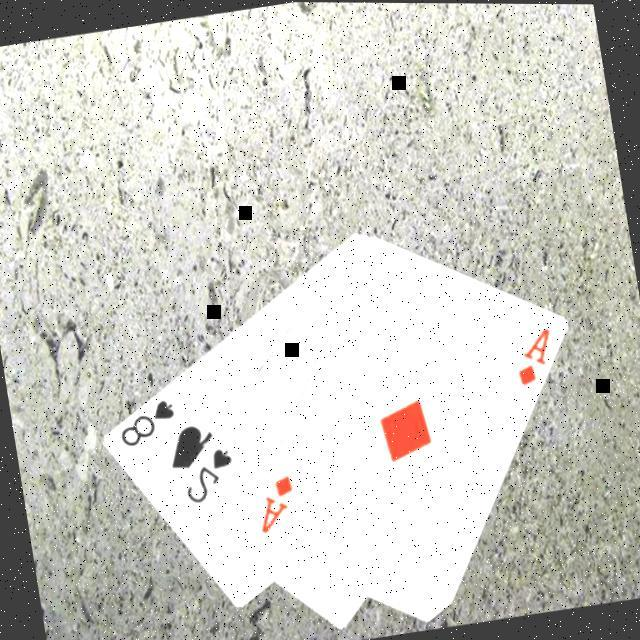2S: (177, 441, 243, 506)
8S: (112, 393, 184, 450)
AD: (251, 468, 304, 536), (508, 322, 562, 388)
